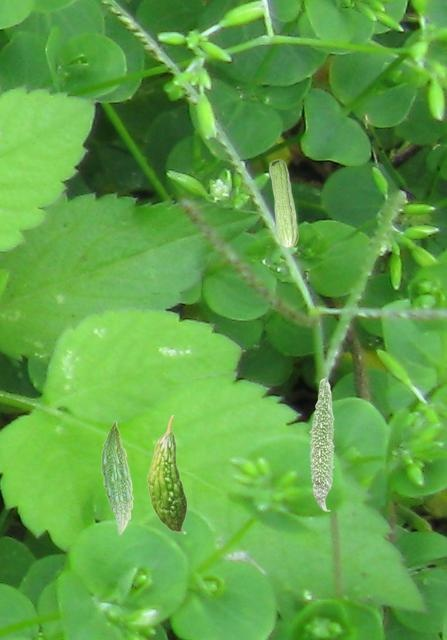ampalaya: (146, 414, 187, 534), (101, 420, 134, 535), (308, 376, 335, 511), (268, 159, 298, 248)
